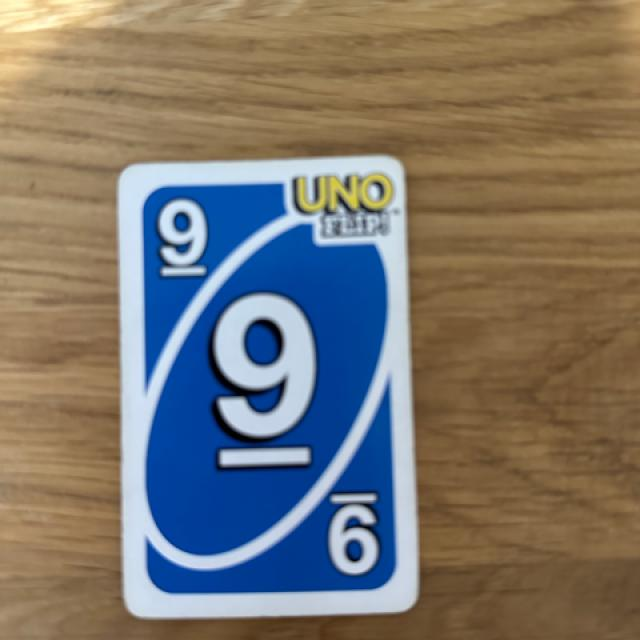lblue-9: (132, 177, 233, 292)
